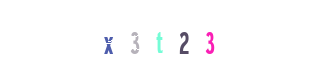2: (127, 0, 207, 80)
3: (111, 0, 191, 80), (170, 0, 250, 80)
T: (119, 0, 199, 80)
X: (111, 0, 191, 80)
